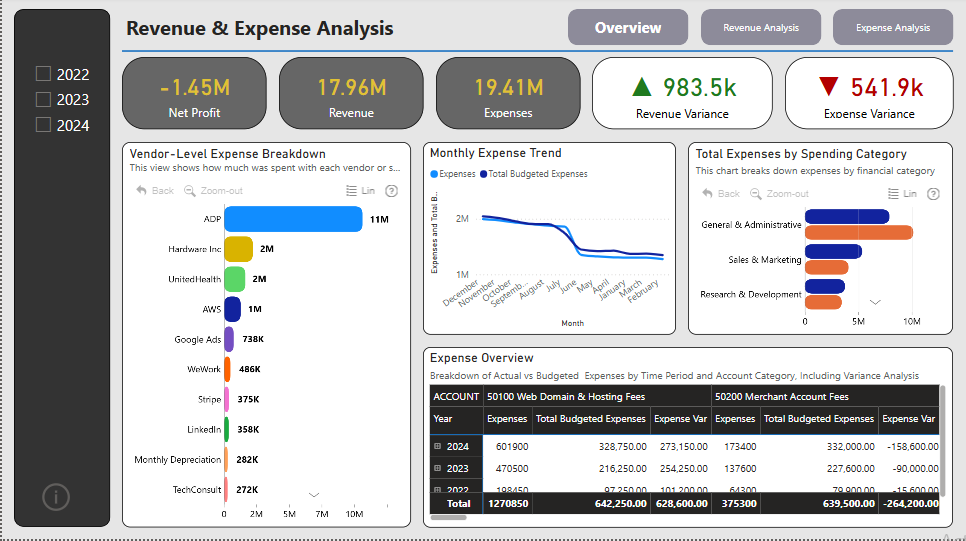

The dashboard page shown, as its layout file describes it:
{"tool":"powerbi","page":{"name":"Revenue/Expenses","canvas":[1280,720],"ordinal":1},"visuals":[{"type":"shape","box":[16,16,128,688],"z":0},{"type":"lineChart","title":"Monthly Expense Trend","fields":{"Y":["MeasuresTable.Expenses","MeasuresTable.Total Budgeted Expenses"],"Category":["DateTable.Month"]},"box":[560,192,336,256],"z":0,"group":"g1"},{"type":"textbox","box":[160,16,528,48],"z":1000},{"type":"ZoomChartsDrillDownComboBarProE77E4ED357DC402ABA005987437CF8","title":"Vendor-Level Expense Breakdown","fields":{"Category":["Transaction.NAME","Budget.ACCOUNT","Transaction.MEMO/DESCRIPTION"],"Values1":["MeasuresTable.Expenses"]},"box":[160,192,384,512],"z":1000,"group":"g1"},{"type":"shape","box":[160,64,1104,16],"z":2000},{"type":"ZoomChartsDrillDownComboBarProE77E4ED357DC402ABA005987437CF8","title":"Total Expenses by Spending Category","fields":{"Values2":["MeasuresTable.Expenses"],"Values3":["MeasuresTable.Total Budgeted Expenses"],"Category":["Class_table.CLASS"]},"box":[912,192,352,256],"z":2000,"group":"g1"},{"type":"card","fields":{"Values":["MeasuresTable.Total Revenue"]},"box":[368,80,192,96],"z":3000},{"type":"pivotTable","title":"Expense Overview","fields":{"Rows":["DateTable.Year","DateTable.Month","DateTable.Quarter","Accounts.LEVEL_01","Accounts.LEVEL_02"],"Values":["MeasuresTable.Expenses","MeasuresTable.Total Budgeted Expenses","MeasuresTable.Expense Var"],"Columns":["Accounts.ACCOUNT"]},"box":[560,464,704,240],"z":3000,"group":"g1"},{"type":"card","fields":{"Values":["MeasuresTable.Total Expenses"]},"box":[576,80,192,96],"z":4000},{"type":"card","fields":{"Values":["MeasuresTable.Revenue Variance (Text)"]},"box":[784,80,240,96],"z":5000},{"type":"card","title":"Profit","fields":{"Values":["MeasuresTable.Net Profit"]},"box":[160,80,192,96],"z":6000},{"type":"card","fields":{"Values":["MeasuresTable.Expense Variance (Text)"]},"box":[1040,80,224,96],"z":7000},{"type":"slicer","fields":{"Values":["DateTable.Year1"]},"box":[32,80,96,128],"z":8000},{"type":"actionButton","box":[160,80,192,96],"z":9000},{"type":"actionButton","box":[368,80,192,96],"z":10000},{"type":"actionButton","box":[576,80,192,96],"z":11000},{"type":"actionButton","box":[784,80,240,96],"z":12000},{"type":"actionButton","box":[1040,80,224,96],"z":13000},{"type":"actionButton","title":"Show Revenue Analysis","box":[928,16,160,48],"z":14000},{"type":"actionButton","box":[1104,16,160,48],"z":15000},{"type":"actionButton","box":[752,16,160,48],"z":16000},{"type":"group","id":"g1","title":"Group 2","box":[160,192,1104,512],"z":18000},{"type":"actionButton","box":[48,640,64,48],"z":19000}]}

Visuals, with their boxes in screenshot pixels (x1, y1, x2, y2), scaled from the page's 1280x720 canvas onto the 966x541 screenshot:
shape: <box>12,12,109,529</box>
"Monthly Expense Trend" lineChart: <box>423,144,676,337</box>
textbox: <box>121,12,519,48</box>
"Vendor-Level Expense Breakdown" ZoomChartsDrillDownComboBarProE77E4ED357DC402ABA005987437CF8: <box>121,144,411,529</box>
shape: <box>121,48,954,60</box>
"Total Expenses by Spending Category" ZoomChartsDrillDownComboBarProE77E4ED357DC402ABA005987437CF8: <box>688,144,954,337</box>
card - MeasuresTable.Total Revenue: <box>278,60,423,132</box>
"Expense Overview" pivotTable: <box>423,349,954,529</box>
card - MeasuresTable.Total Expenses: <box>435,60,580,132</box>
card - MeasuresTable.Revenue Variance (Text): <box>592,60,773,132</box>
"Profit" card: <box>121,60,266,132</box>
card - MeasuresTable.Expense Variance (Text): <box>785,60,954,132</box>
slicer - DateTable.Year1: <box>24,60,97,156</box>
actionButton: <box>121,60,266,132</box>
actionButton: <box>278,60,423,132</box>
actionButton: <box>435,60,580,132</box>
actionButton: <box>592,60,773,132</box>
actionButton: <box>785,60,954,132</box>
"Show Revenue Analysis" actionButton: <box>700,12,821,48</box>
actionButton: <box>833,12,954,48</box>
actionButton: <box>568,12,688,48</box>
"Group 2" group: <box>121,144,954,529</box>
actionButton: <box>36,481,85,517</box>
